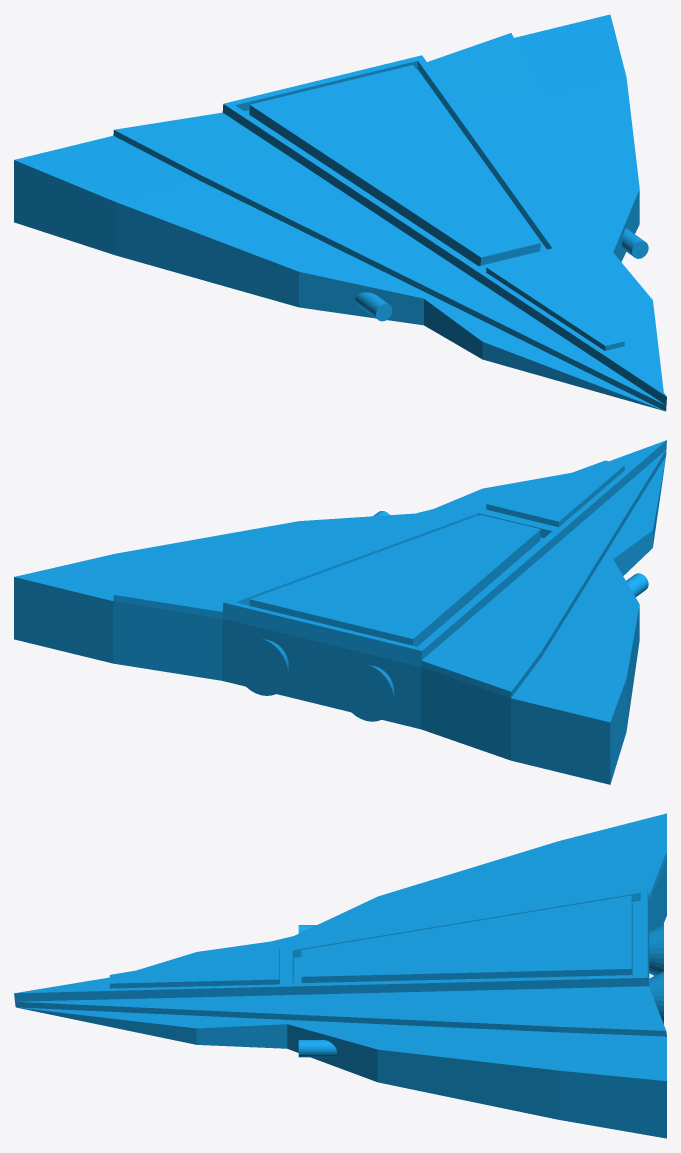
The model's file is Rider.fbx.
3 views of the same model, one above another, from view 1: azimuth 30°, elevation 25°; view 2: azimuth 150°, elevation 25°; view 3: azimuth 270°, elevation 25° (orthographic). The views are drawn at different scales.
Visible parts, largest first — view 1: Cube; view 2: Cube; view 3: Cube.
Boxes of the visible parts, <box> form: Cube: <box>14,14,666,411</box>; Cube: <box>14,440,666,784</box>; Cube: <box>14,813,666,1138</box>.
Bounding box in the file's own units: 180 × 23.59 × 185.
